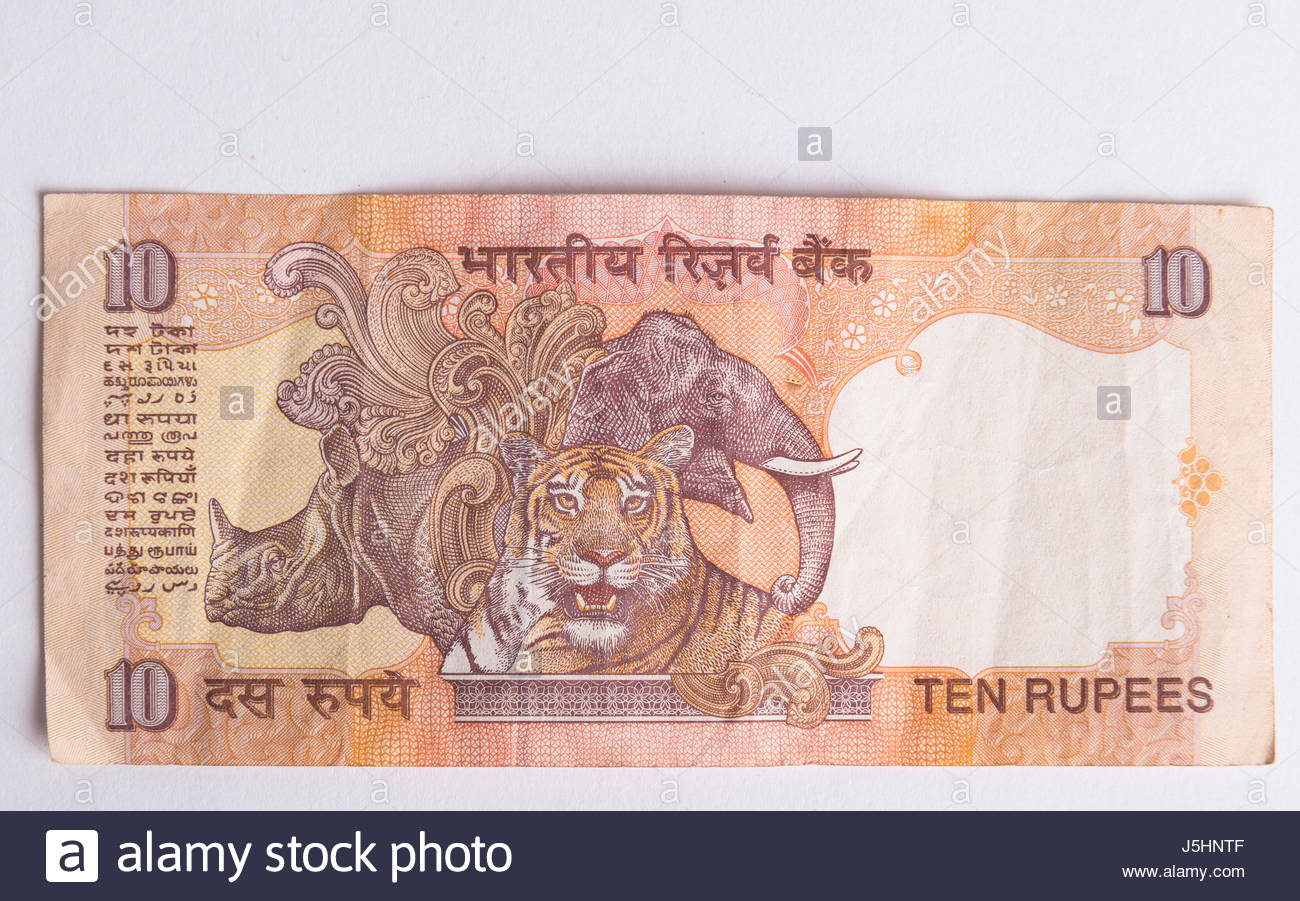ten_rupees_note: (38, 188, 1277, 771)
